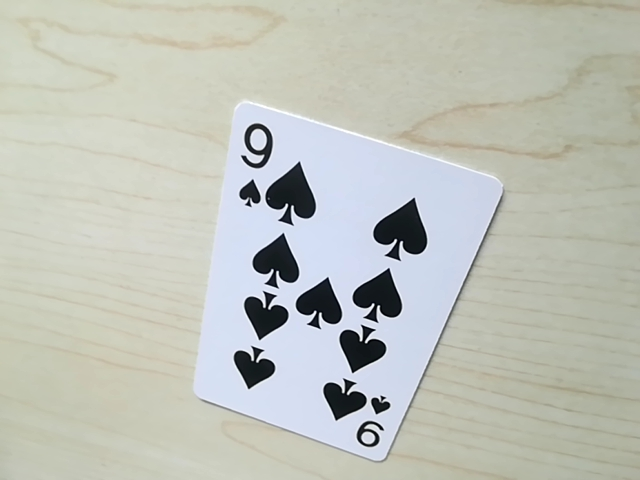ht 9: (227, 111, 290, 221), (348, 396, 393, 459)
